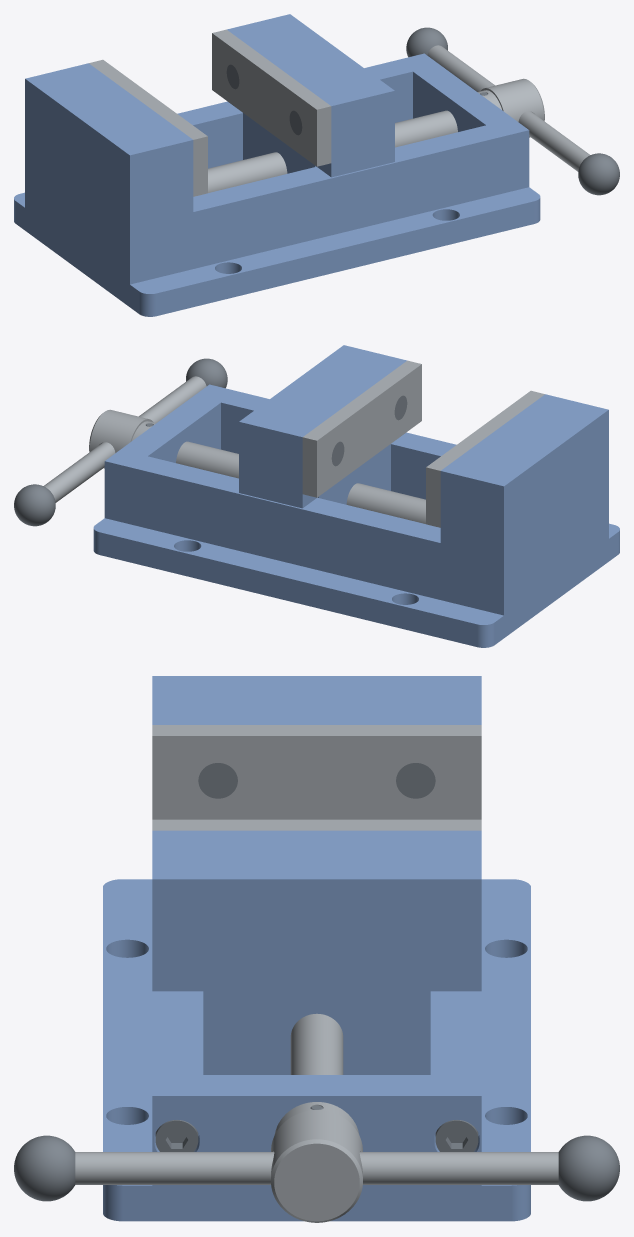
The model's file is step_26.glb.
The picture shows the model from 3 angles, top to bottom: view 1: azimuth 30°, elevation 25°; view 2: azimuth 150°, elevation 25°; view 3: azimuth 270°, elevation 25°; orthographic projection. The views are drawn at different scales.
Parts seen in each view (by area): view 1: part__body, part__moving jaw, part__moving jaw plate, part__end block, part__lead screw, part__tommy bar, part__fixed jaw plate, part__handle ball 2, part__handle ball 1; view 2: part__body, part__moving jaw, part__moving jaw plate, part__end block, part__lead screw, part__tommy bar, part__fixed jaw plate, part__handle ball 1, part__handle ball 2; view 3: part__moving jaw, part__body, part__fixed jaw plate, part__end block, part__tommy bar, part__lead screw, part__moving jaw plate, part__handle ball 1, part__handle ball 2, part__cap screw M8 x 30 1, part__cap screw M8 x 30 2, part__jaw plate screw 1 (+1 smaller).
Part boxes in pixels (x1,y1,x2,y2): part__body: (14,60,540,316); part__moving jaw: (227,14,394,177); part__moving jaw plate: (212,29,331,166); part__end block: (397,53,529,193); part__lead screw: (208,78,544,192); part__tommy bar: (427,45,590,171); part__fixed jaw plate: (89,59,207,196); part__handle ball 2: (578,153,619,195); part__handle ball 1: (406,27,447,57); part__body: (93,391,619,647); part__moving jaw: (239,345,406,508); part__moving jaw plate: (302,360,421,497); part__end block: (104,384,236,524); part__lead screw: (89,409,425,523); part__tommy bar: (43,376,206,502); part__fixed jaw plate: (426,390,544,527); part__handle ball 1: (14,484,55,526); part__handle ball 2: (186,358,227,388); part__moving jaw: (152,830,481,1074); part__body: (103,676,530,1221); part__fixed jaw plate: (152,725,481,819); part__end block: (152,1075,481,1185); part__tommy bar: (75,1152,558,1184); part__lead screw: (271,1013,362,1222); part__moving jaw plate: (152,819,481,830); part__handle ball 1: (558,1135,619,1201); part__handle ball 2: (14,1135,75,1201); part__cap screw M8 x 30 1: (435,1120,478,1151); part__cap screw M8 x 30 2: (155,1120,198,1151); part__jaw plate screw 1: (396,763,435,798).
Size of the model in its own units: 250 by 80 by 184.
